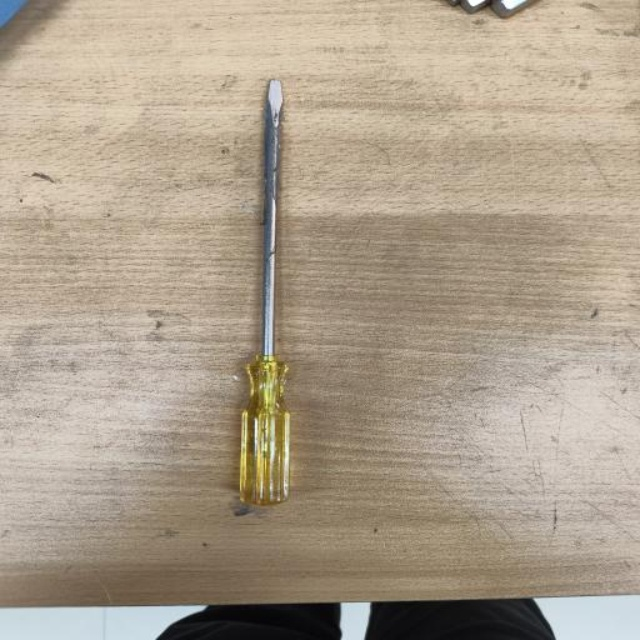screwdriver: (238, 78, 292, 506)
